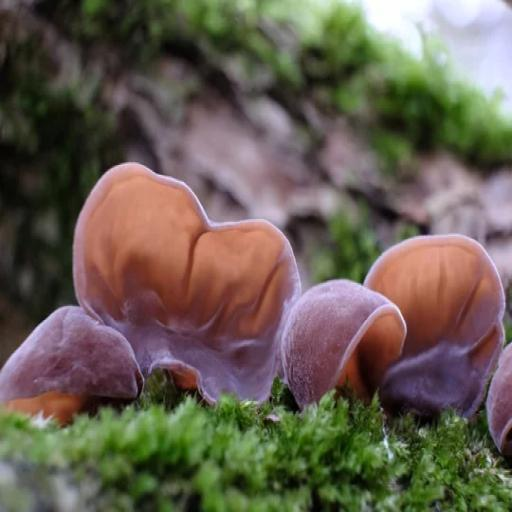mushroom: (72, 165, 303, 422), (365, 220, 508, 424), (279, 273, 406, 429), (0, 299, 149, 420), (484, 340, 512, 456)
